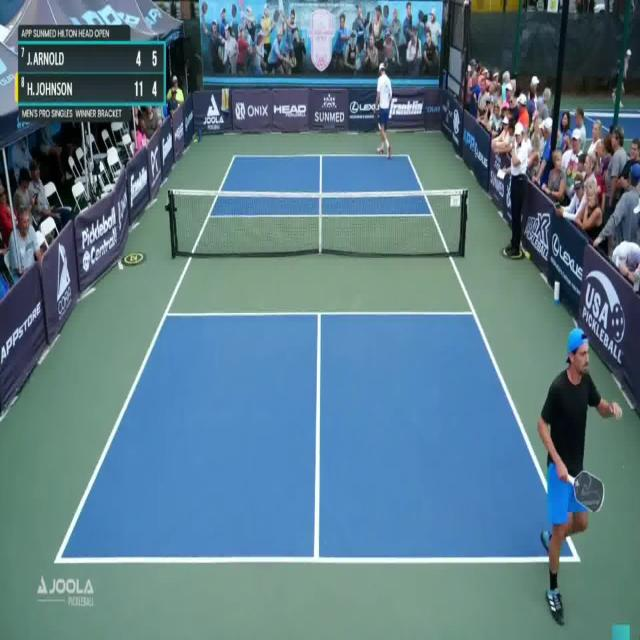Court: (54, 150, 579, 560)
